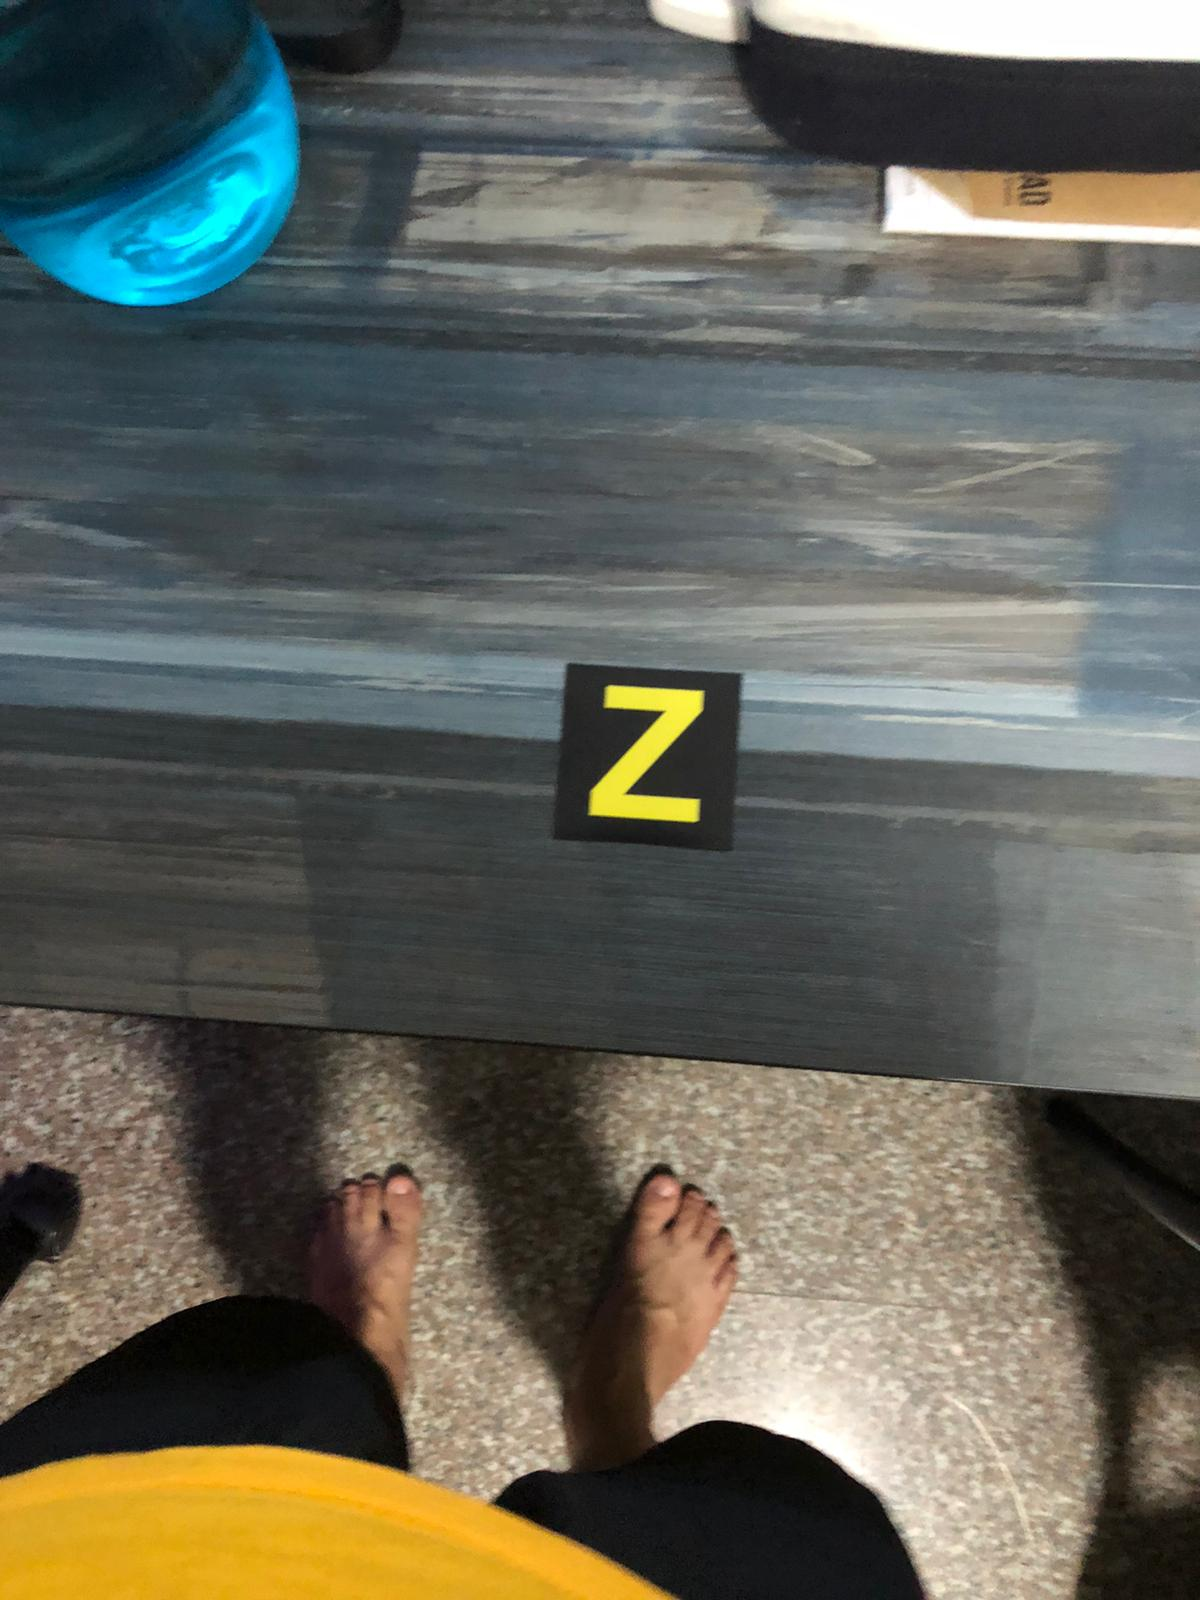Z: (566, 666, 735, 847)
